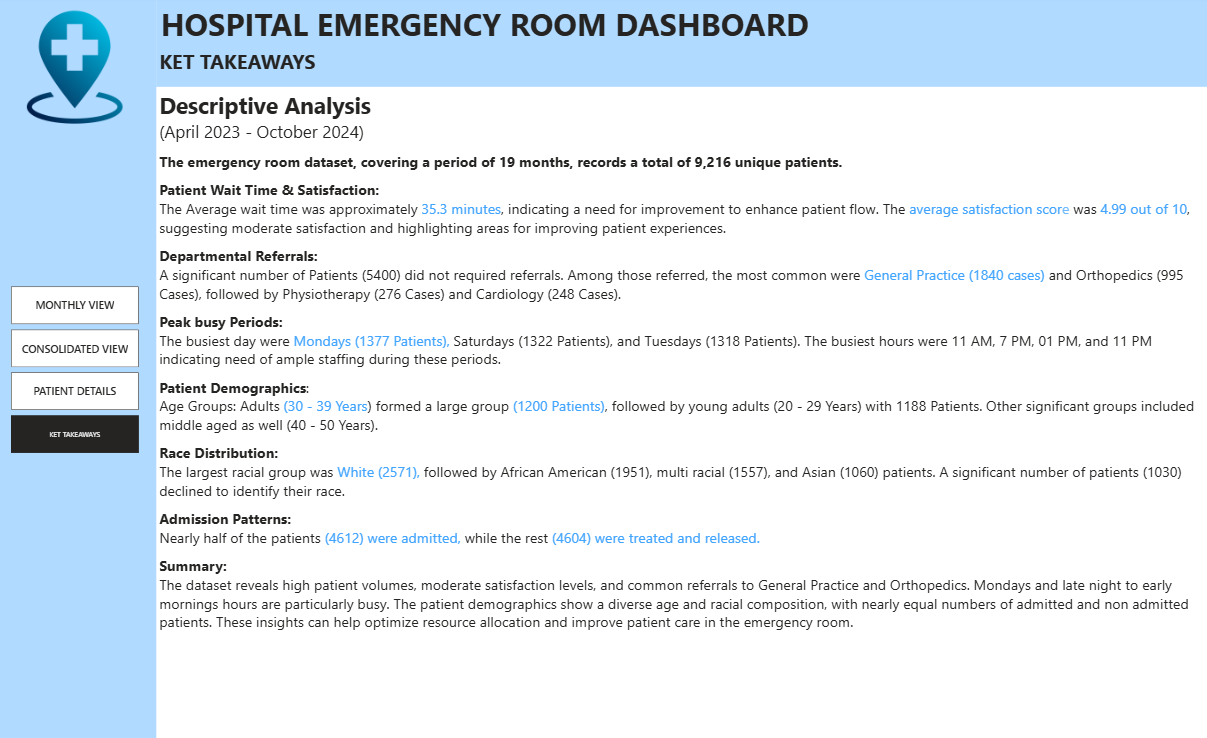

The dashboard page shown, as its layout file describes it:
{"tool":"powerbi","page":{"name":"KET TAKEAWAYS","canvas":[2300,1400],"ordinal":3},"visuals":[{"type":"shape","box":[0,0,308.6,1401.1],"z":0},{"type":"shape","box":[308.6,0,1993,163.7],"z":1000},{"type":"textbox","box":[310,0,1550,106.7],"z":2000},{"type":"textbox","box":[308.6,85,418.8,69.3],"z":3000},{"type":"image","box":[31.5,18.9,245.6,214.1],"z":4000},{"type":"pageNavigator","box":[33.3,541.7,241.7,316.7],"z":6000},{"type":"textbox","box":[308.6,163.7,1993,1237.4],"z":7000}]}

Visuals, with their boxes in screenshot pixels (x1, y1, x2, y2), scaled from the page's 2300x1400 canvas onto the 1207x738 screenshot:
shape: left=0, top=0, right=162, bottom=737
shape: left=162, top=0, right=1206, bottom=86
textbox: left=163, top=0, right=976, bottom=56
textbox: left=162, top=45, right=382, bottom=81
image: left=17, top=10, right=145, bottom=123
pageNavigator: left=17, top=286, right=144, bottom=452
textbox: left=162, top=86, right=1206, bottom=737
